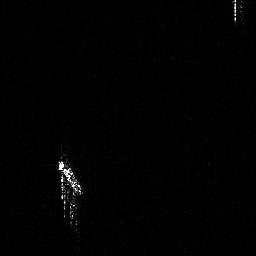ship: (54, 153, 88, 233)
